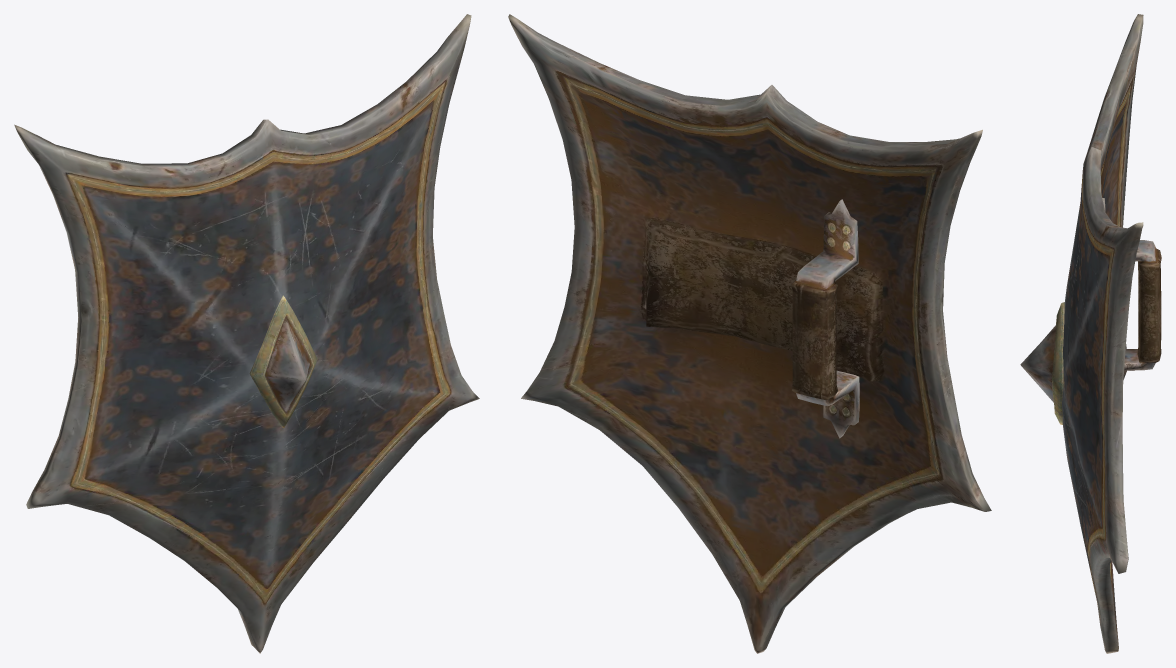
The picture shows the model from 3 angles, left to right: view 1: azimuth 30°, elevation 25°; view 2: azimuth 150°, elevation 25°; view 3: azimuth 270°, elevation 25°; orthographic projection. The views are drawn at different scales.
Parts seen in each view (by area): view 1: SM_U_MED_Skeleton_Human_Melee_Heavy_Shield_01_LOD0; view 2: SM_U_MED_Skeleton_Human_Melee_Heavy_Shield_01_LOD0; view 3: SM_U_MED_Skeleton_Human_Melee_Heavy_Shield_01_LOD0.
Boxes of the visible parts, box(x1,y1,x2,y2) form: SM_U_MED_Skeleton_Human_Melee_Heavy_Shield_01_LOD0: box(14, 14, 479, 653); SM_U_MED_Skeleton_Human_Melee_Heavy_Shield_01_LOD0: box(508, 14, 991, 653); SM_U_MED_Skeleton_Human_Melee_Heavy_Shield_01_LOD0: box(1020, 14, 1161, 653).
Bounding box in the file's own units: 0.9284 × 1.11 × 0.2659.
1 material, 1 textured.
